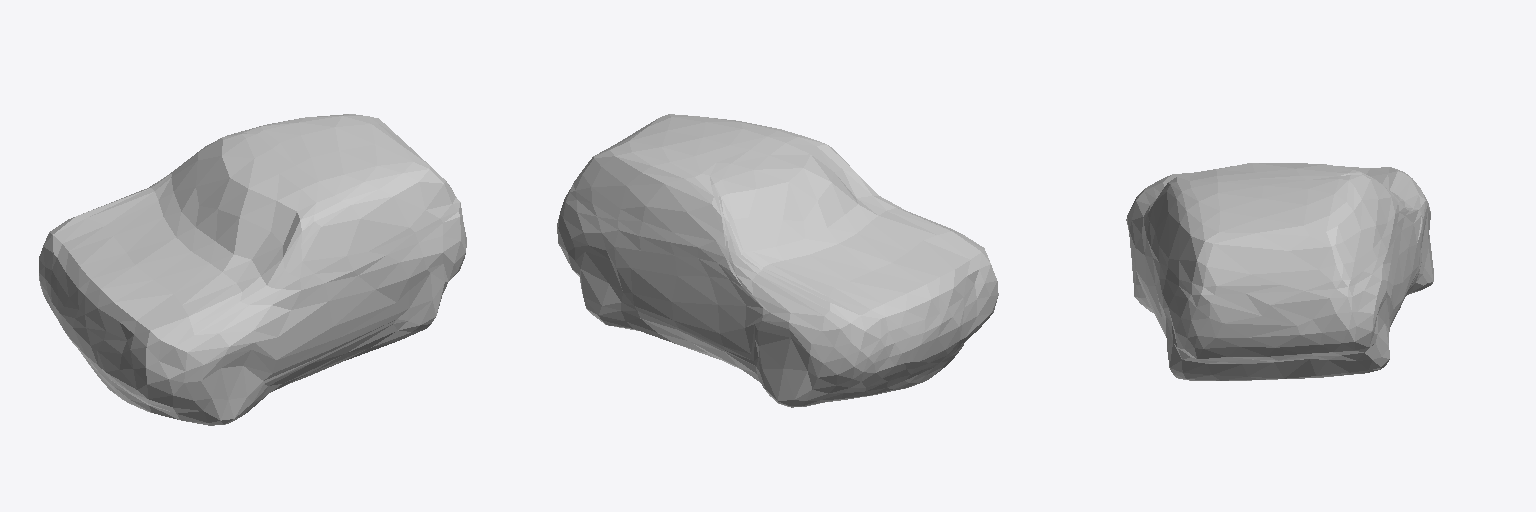
File: video3_378.obj
The picture shows the model from 3 angles: view 1: azimuth 30°, elevation 25°; view 2: azimuth 150°, elevation 25°; view 3: azimuth 270°, elevation 25°; orthographic projection.
Bounding box in the file's own units: 1 × 0.5166 × 0.7465.